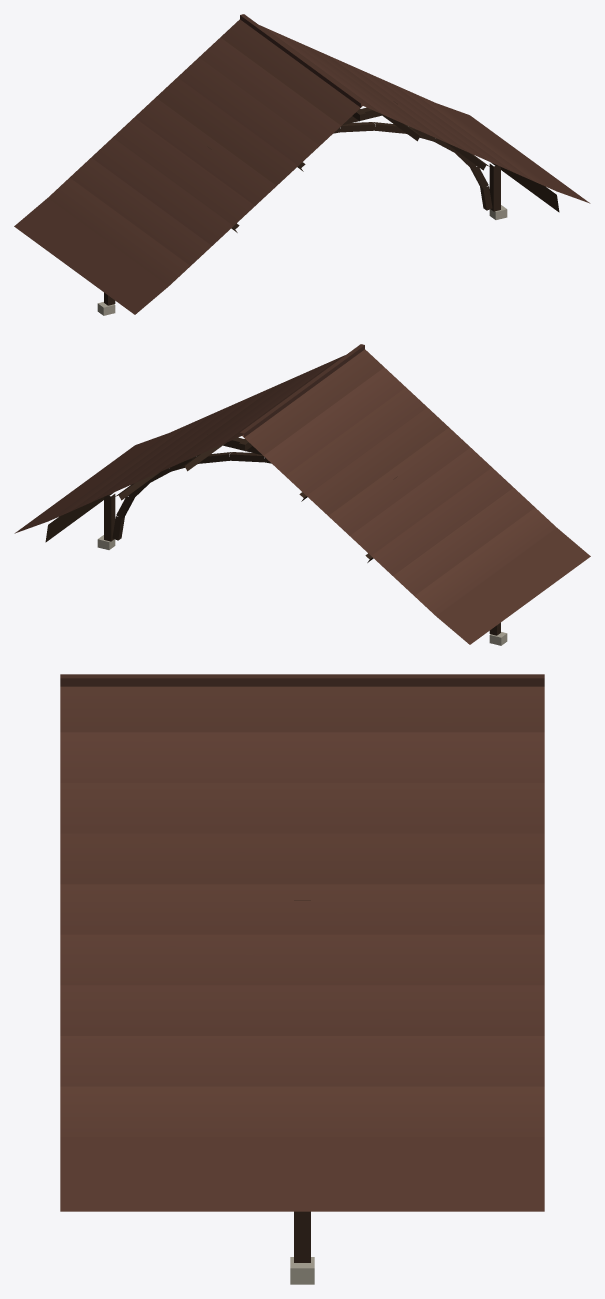
Rendered from roof.ridge_bay.one_truss.glb.
3 renders of one model, top to bottom at view 1: azimuth 30°, elevation 25°; view 2: azimuth 150°, elevation 25°; view 3: azimuth 270°, elevation 25°, orthographic. The views are drawn at different scales.
Visible parts, largest first — view 1: roof_ridge_bay_one_truss; view 2: roof_ridge_bay_one_truss; view 3: roof_ridge_bay_one_truss.
Boxes of the visible parts, x1,y1,x2,y2 form: roof_ridge_bay_one_truss: (14,14,590,315); roof_ridge_bay_one_truss: (14,344,590,645); roof_ridge_bay_one_truss: (60,674,544,1284).
Size of what is drawn, in the model's own units: 17.4 by 7.5 by 8.
